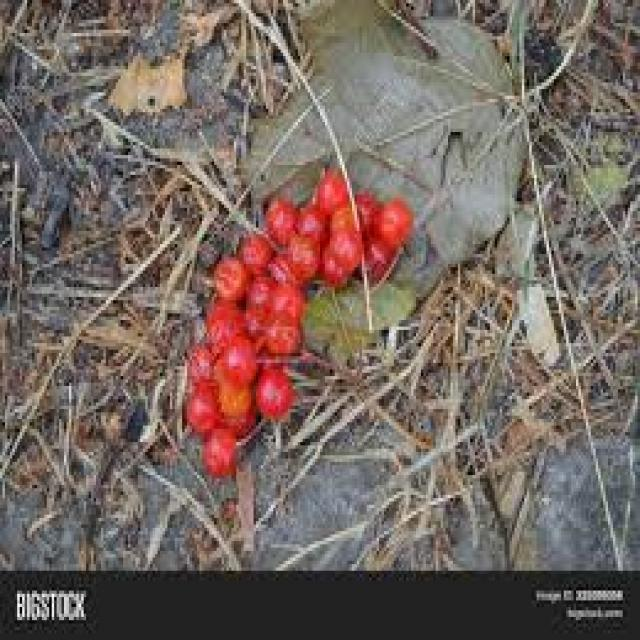organic waste: (239, 0, 527, 353), (182, 373, 219, 432), (209, 247, 251, 297), (264, 244, 306, 290), (200, 422, 237, 472), (261, 191, 295, 244), (236, 228, 274, 274), (197, 290, 246, 324), (312, 162, 344, 211), (268, 313, 306, 353), (359, 231, 392, 277), (376, 198, 408, 244), (236, 294, 271, 336), (325, 225, 359, 268), (243, 270, 276, 314), (216, 376, 248, 419), (182, 336, 214, 379), (219, 337, 254, 376), (202, 317, 239, 353), (286, 231, 320, 270), (256, 370, 286, 412), (266, 280, 300, 317), (354, 188, 376, 244), (298, 201, 327, 241), (320, 250, 350, 284), (330, 201, 354, 231), (224, 406, 254, 429)
